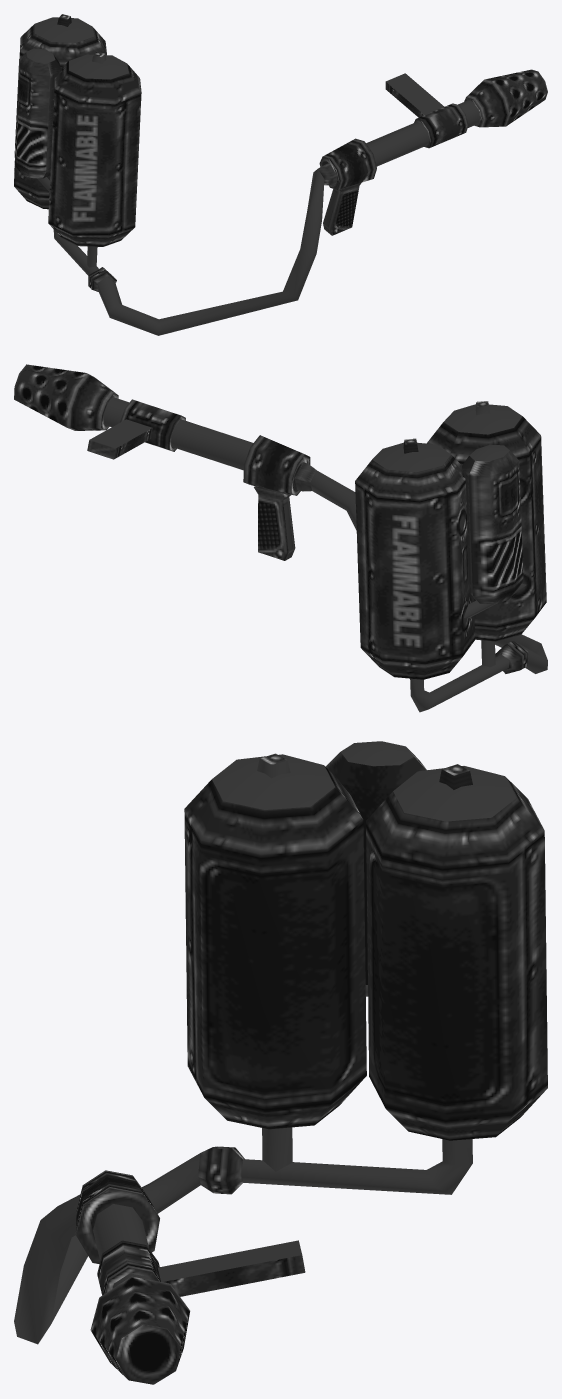
Rendered from p_egon.glb.
3 views of the same model, one above another, from view 1: azimuth 30°, elevation 25°; view 2: azimuth 150°, elevation 25°; view 3: azimuth 270°, elevation 25° (orthographic). The views are drawn at different scales.
Parts seen in each view (by area): view 1: p_egon; view 2: p_egon; view 3: p_egon.
Boxes of the visible parts, x1=… form: p_egon: x1=14, y1=14, x2=547, y2=335; p_egon: x1=14, y1=364, x2=547, y2=712; p_egon: x1=14, y1=741, x2=547, y2=1384.
Size of the model in its own units: 50.08 by 25.7 by 25.55.
2 materials, 2 textured.
